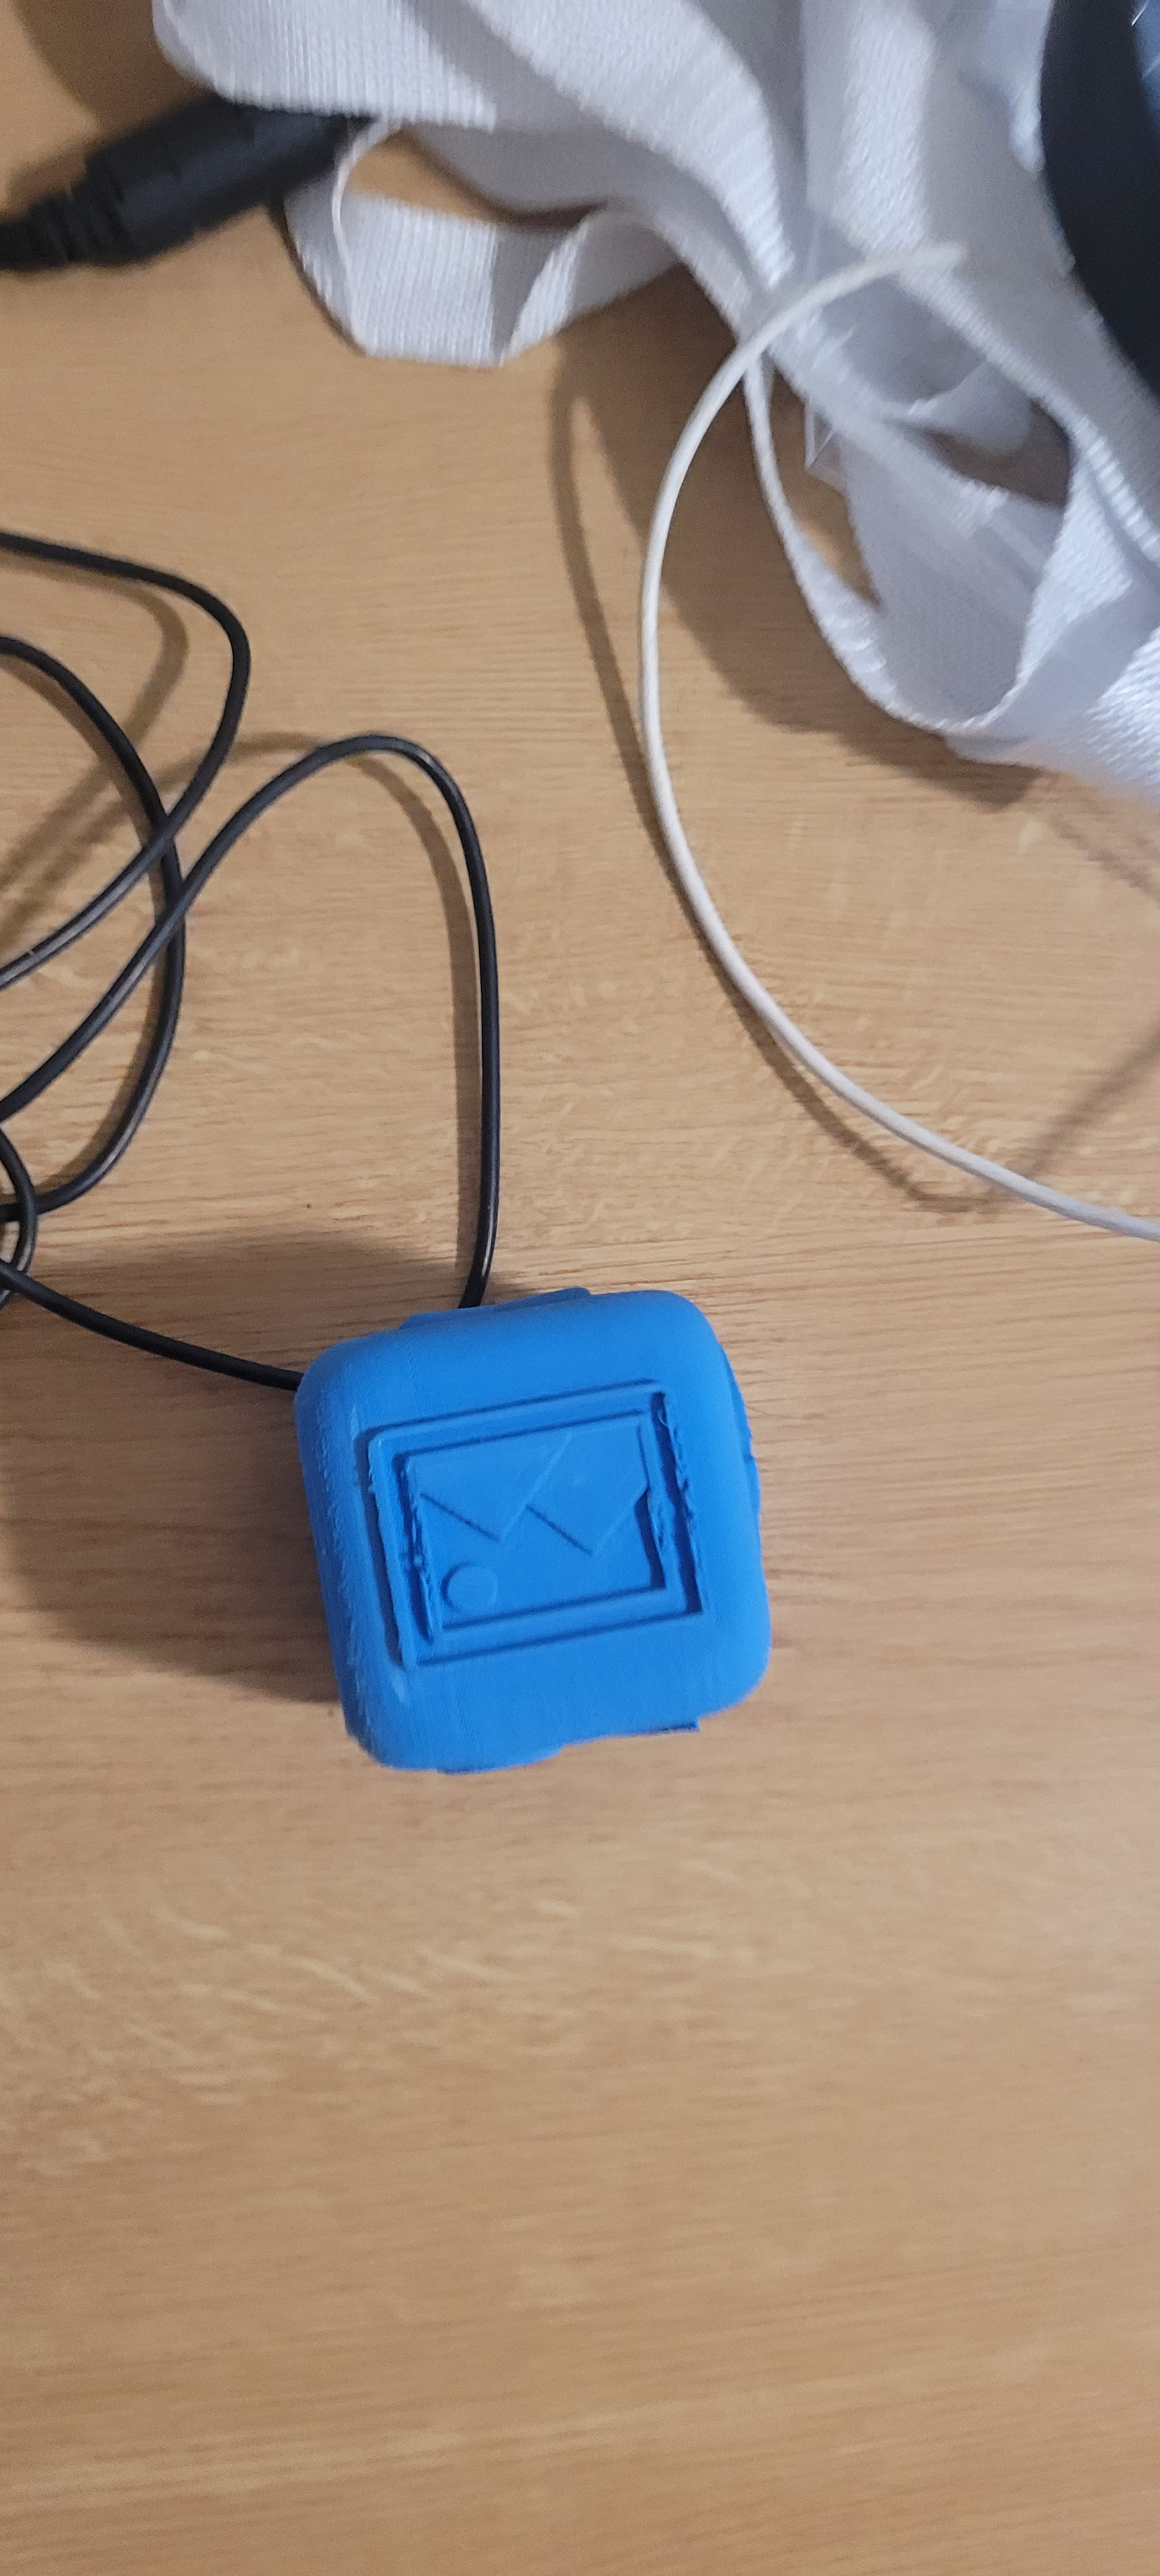Story: (360, 1334, 675, 1699)
